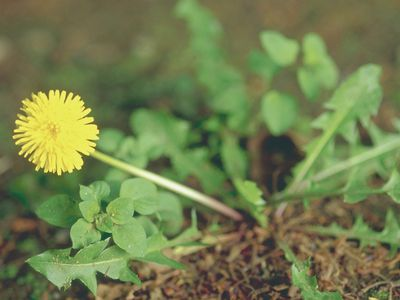dandelion: (17, 93, 94, 168)
